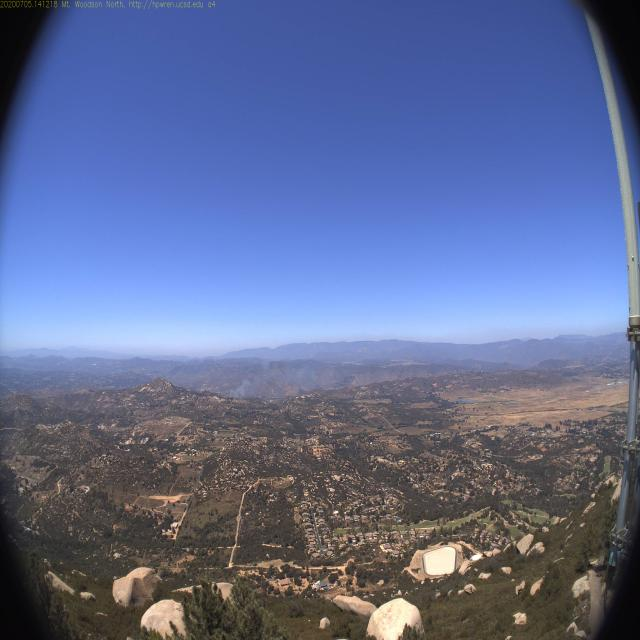smoke: (252, 361, 323, 396), (224, 374, 251, 396)
